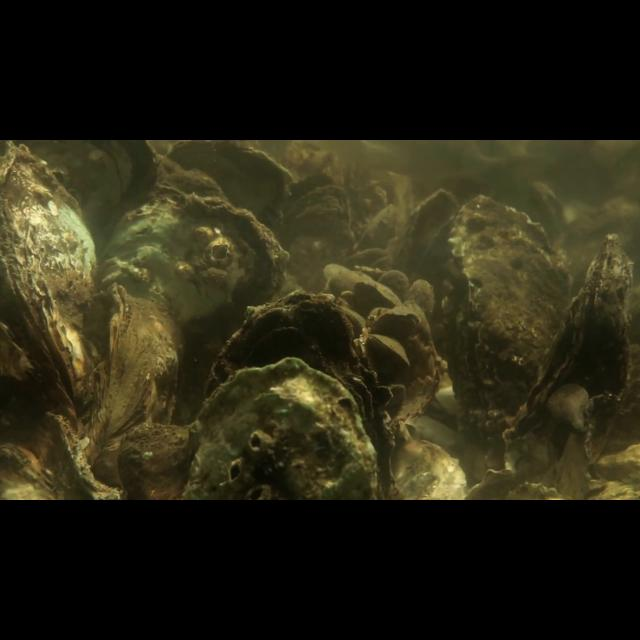Oyster-Closed: (177, 354, 378, 497), (0, 144, 102, 417), (104, 191, 285, 320), (197, 283, 372, 389), (87, 284, 186, 458), (4, 140, 159, 236), (163, 143, 298, 210), (349, 276, 405, 314), (369, 307, 422, 338)
Oyster-Open: (444, 192, 576, 435), (525, 232, 635, 417), (285, 170, 354, 239), (366, 331, 415, 370)
